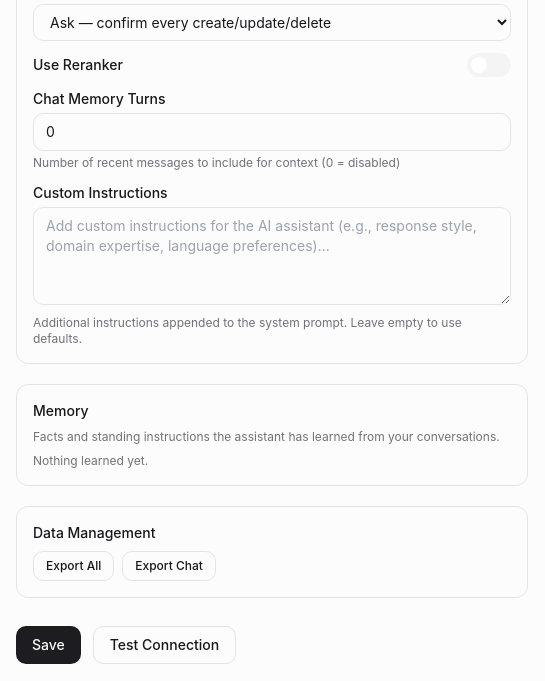
SettingsPage › displays test connection success message
This screenshot has width=545, height=681.
(page scrolled)
Click the button with test id "test-connection-button".
click(164, 645)  # box [93,626,236,664]
(page scrolled)
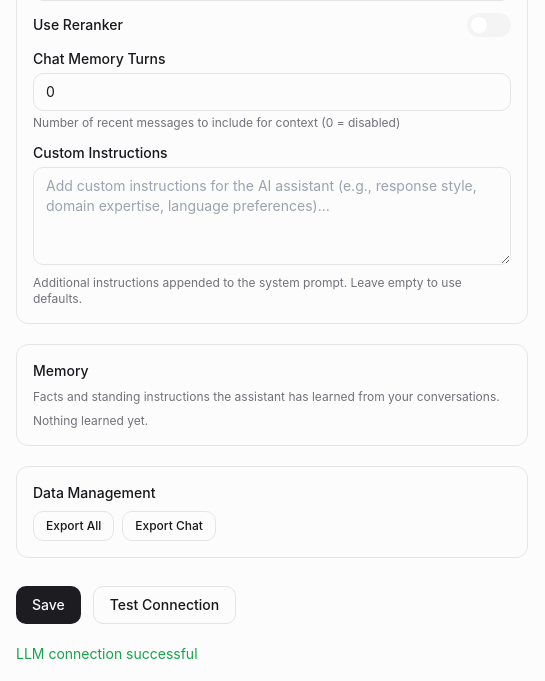
Check: the text "LLM connection successful" is shown, box [16,645,198,662]
